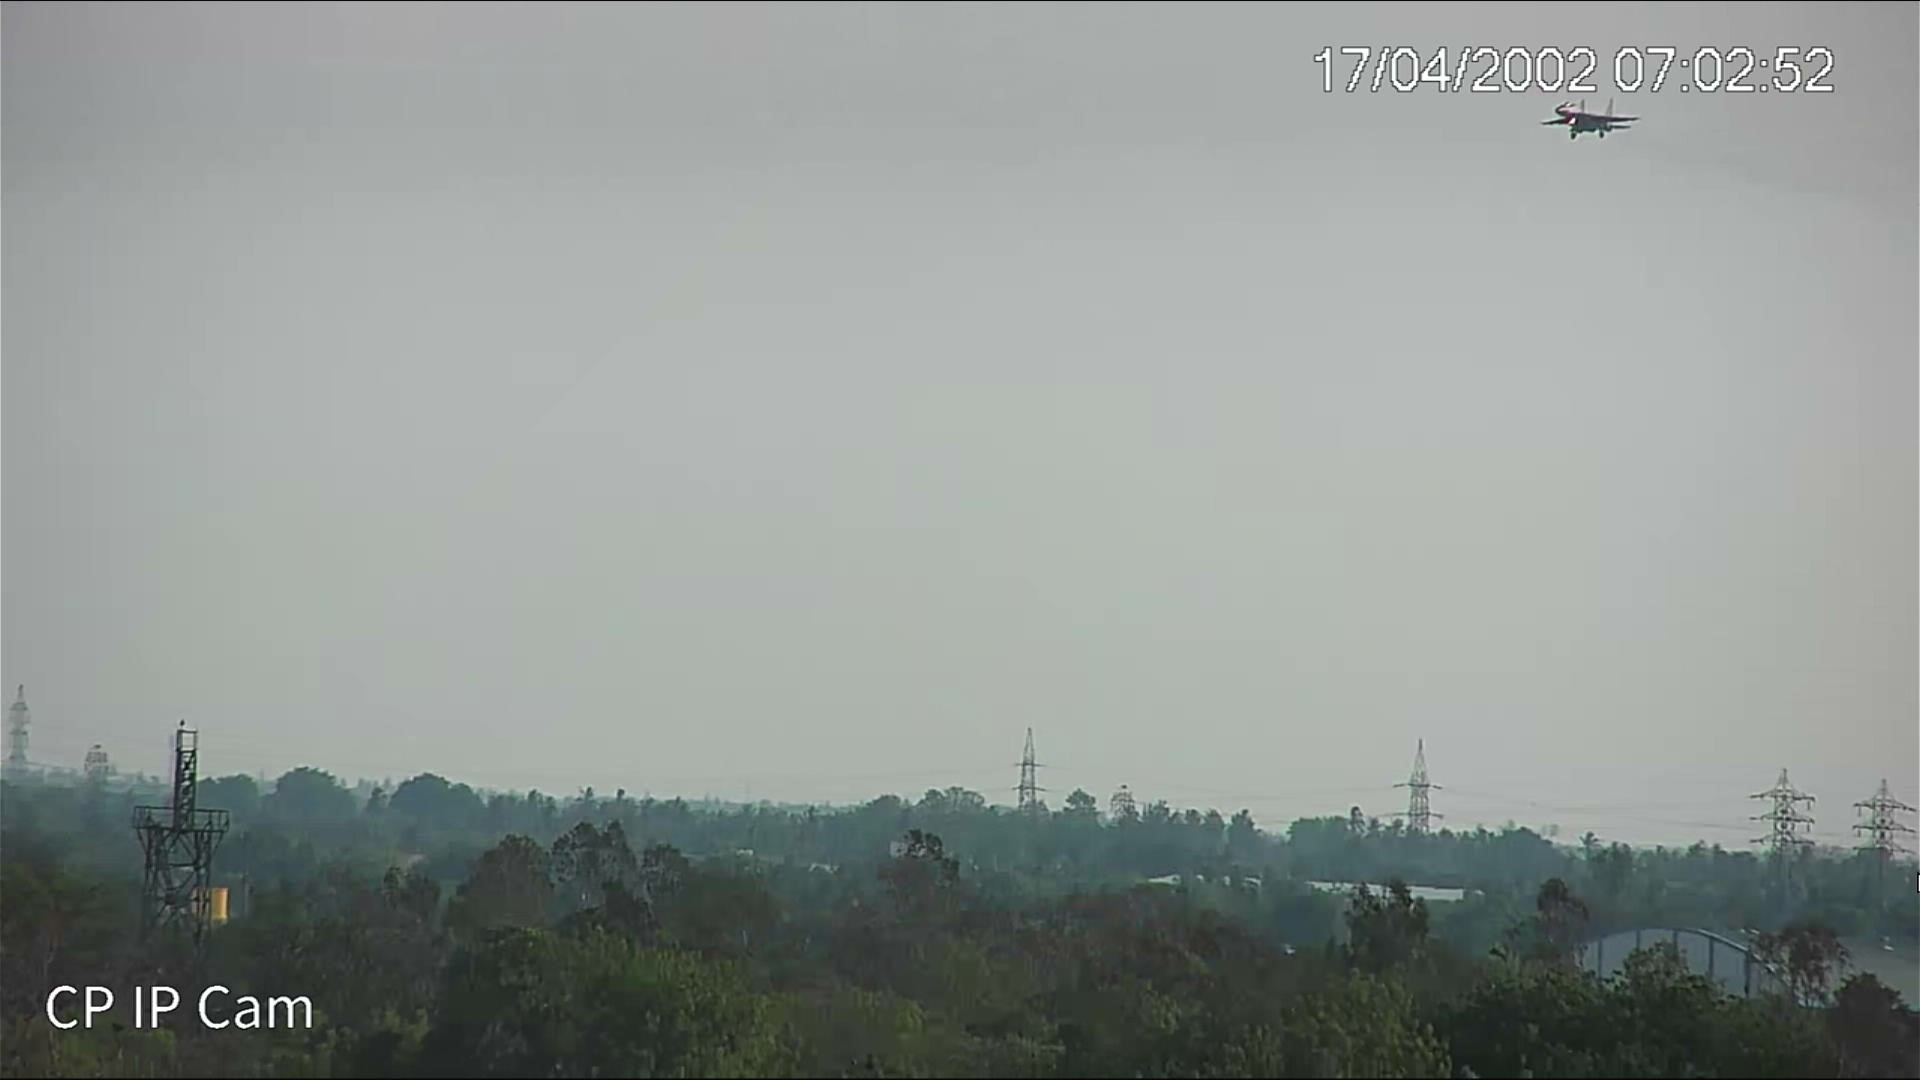SU_30: (1542, 99, 1640, 140)
